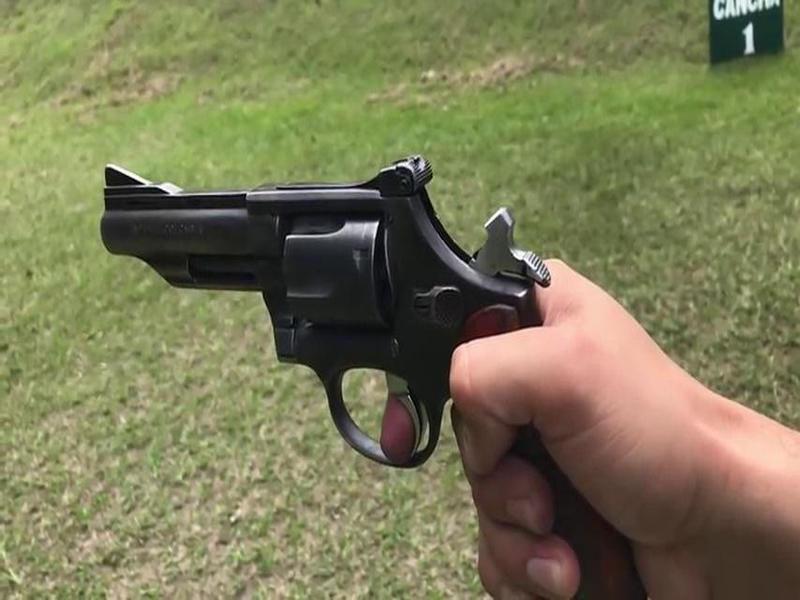Revolver: (85, 144, 635, 546)
